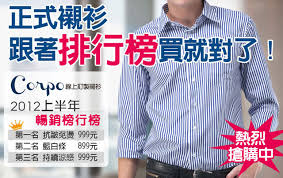F_shirt: (117, 5, 278, 170)
